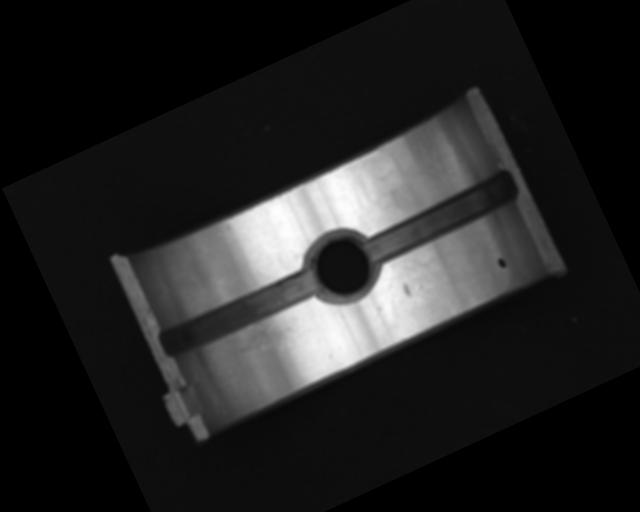blot: (495, 255, 508, 270)
bruise: (400, 281, 412, 297)
gap: (155, 262, 324, 364), (362, 170, 523, 267)
hole: (294, 217, 390, 315)
scratch: (198, 304, 309, 384)
